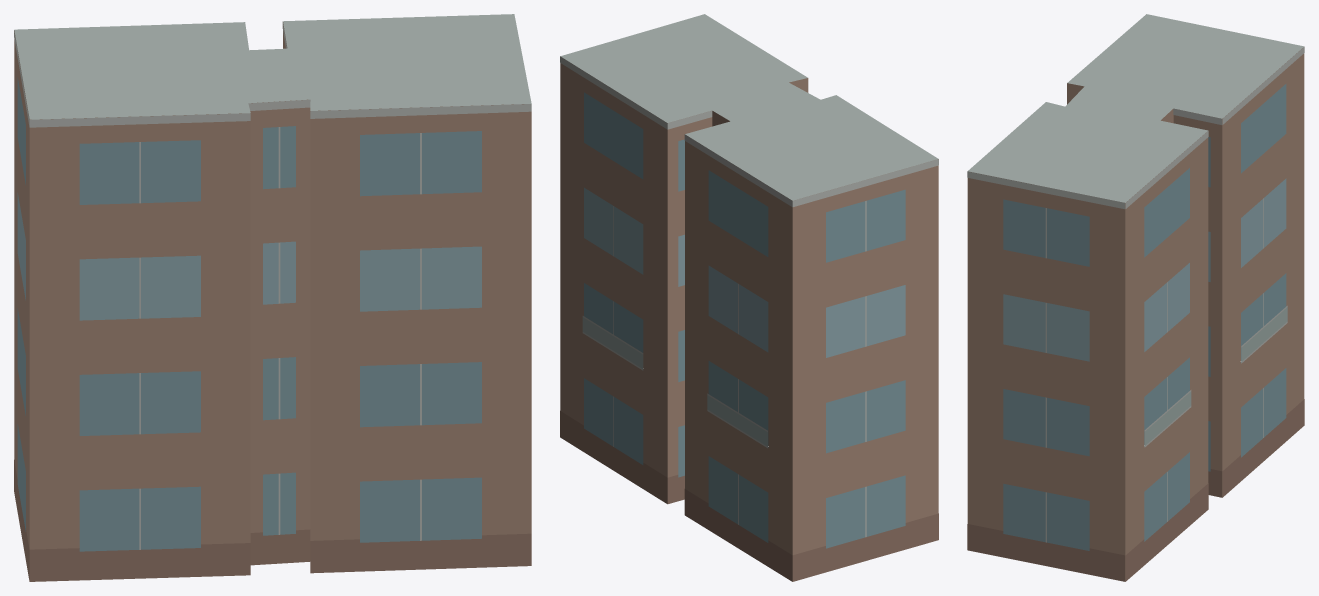
File: survey-upis-32634015.glb
The picture shows the model from 3 angles, left to right: view 1: azimuth 30°, elevation 25°; view 2: azimuth 150°, elevation 25°; view 3: azimuth 270°, elevation 25°; orthographic projection. The views are drawn at different scales.
Parts seen in each view (by area): view 1: survey-upis-32634015.tmp; view 2: survey-upis-32634015.tmp; view 3: survey-upis-32634015.tmp.
Boxes of the visible parts, x1=… form: survey-upis-32634015.tmp: x1=14, y1=14, x2=531, y2=581; survey-upis-32634015.tmp: x1=560, y1=14, x2=938, y2=581; survey-upis-32634015.tmp: x1=967, y1=14, x2=1304, y2=581.
Bounding box in the file's own units: 15.18 × 14.2 × 11.45.
